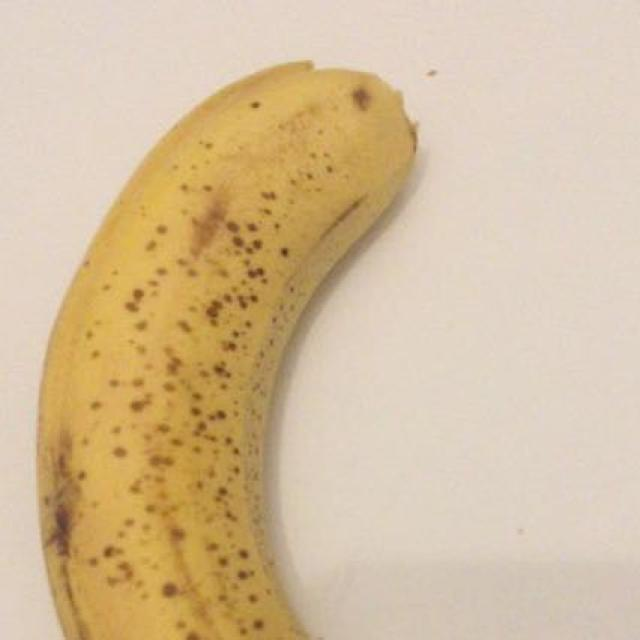Banana: (28, 53, 431, 640)
